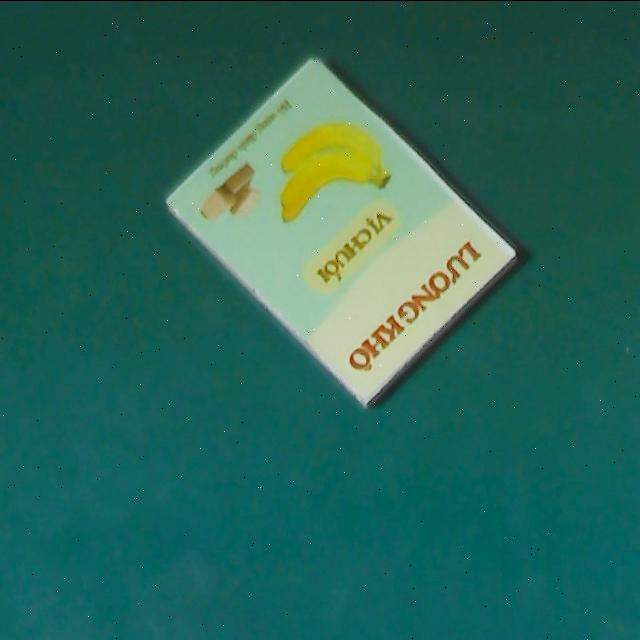chuoi: (160, 47, 523, 410)
